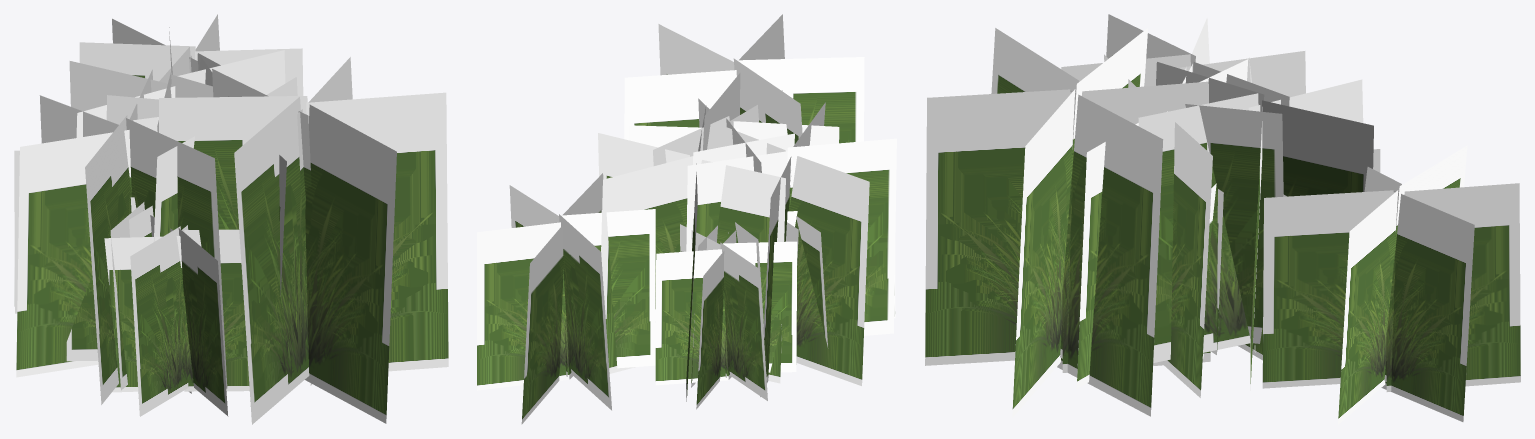
3 renders of one model, left to right at view 1: azimuth 30°, elevation 25°; view 2: azimuth 150°, elevation 25°; view 3: azimuth 270°, elevation 25°, orthographic. The views are drawn at different scales.
Parts seen in each view (by area): view 1: obj1; view 2: obj1; view 3: obj1.
Boxes of the visible parts, x1,y1,x2,y2 form: obj1: (14, 14, 448, 424); obj1: (477, 14, 896, 424); obj1: (925, 14, 1520, 424).
Bounding box in the file's own units: 312 × 239 × 449.
1 material, 1 textured.
